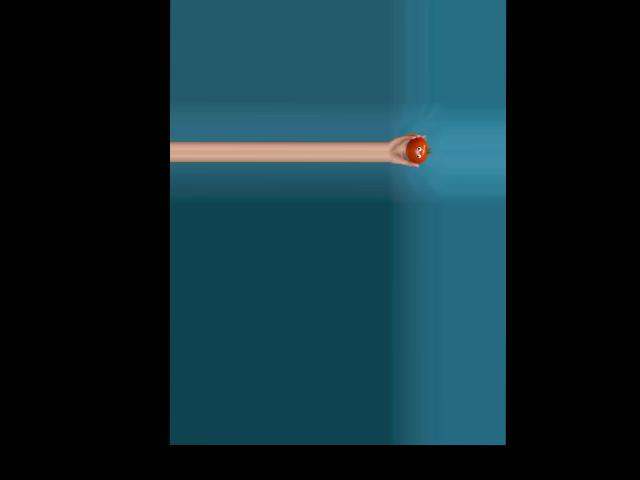tomato: (405, 137, 428, 164)
